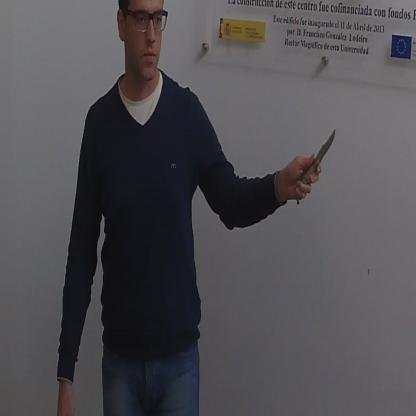knife: (291, 118, 339, 209)
